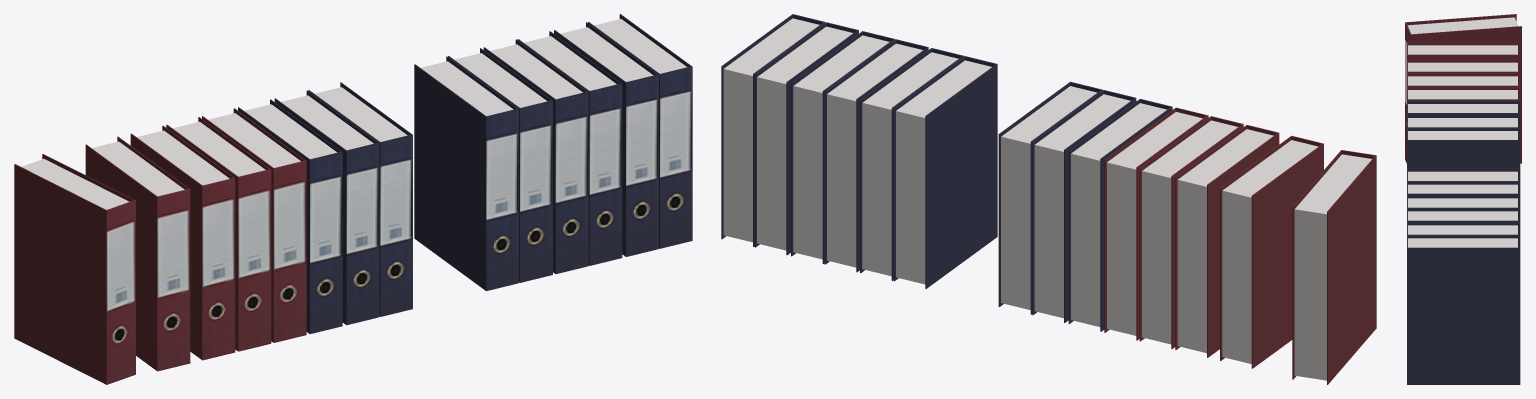
File: Files 4.fbx
The picture shows the model from 3 angles, left to right: view 1: azimuth 30°, elevation 25°; view 2: azimuth 150°, elevation 25°; view 3: azimuth 270°, elevation 25°; orthographic projection. The views are drawn at different scales.
Visible parts, largest first — view 1: Files 4; view 2: Files 4; view 3: Files 4.
Part boxes in pixels (x1,y1,x2,y2): Files 4: [14, 14, 692, 384]; Files 4: [721, 14, 1376, 384]; Files 4: [1405, 14, 1521, 384].
Size of the model in its own units: 88.33 by 24.15 by 18.66.
Materials: 1 (1 with a texture image).
